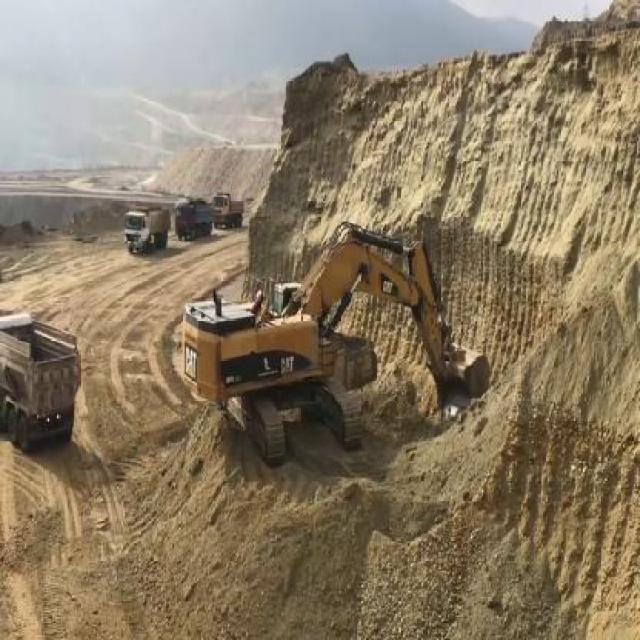dump_truck: (0, 310, 83, 452), (332, 330, 379, 398), (124, 207, 170, 253), (175, 197, 213, 240), (214, 190, 246, 233)
excavator: (180, 219, 492, 473)
